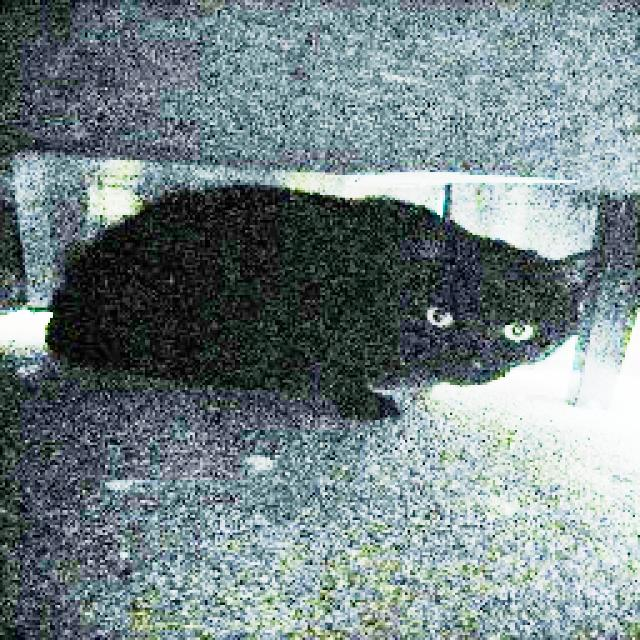cat: (25, 146, 594, 458)
